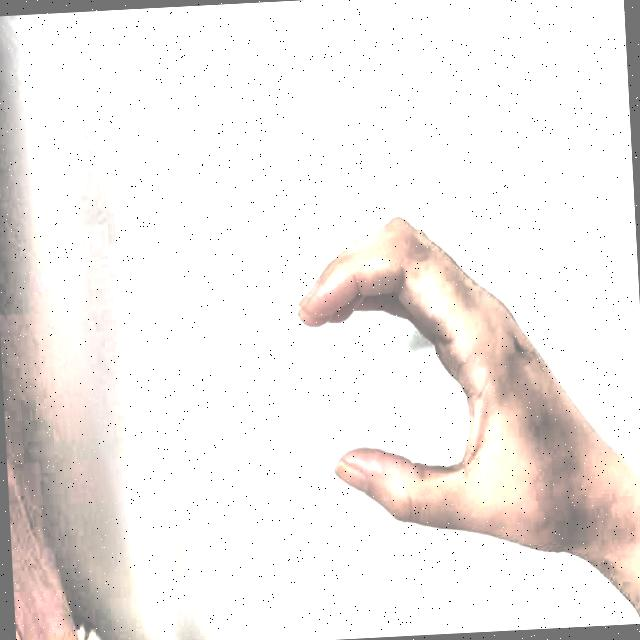A: (268, 170, 574, 592)
